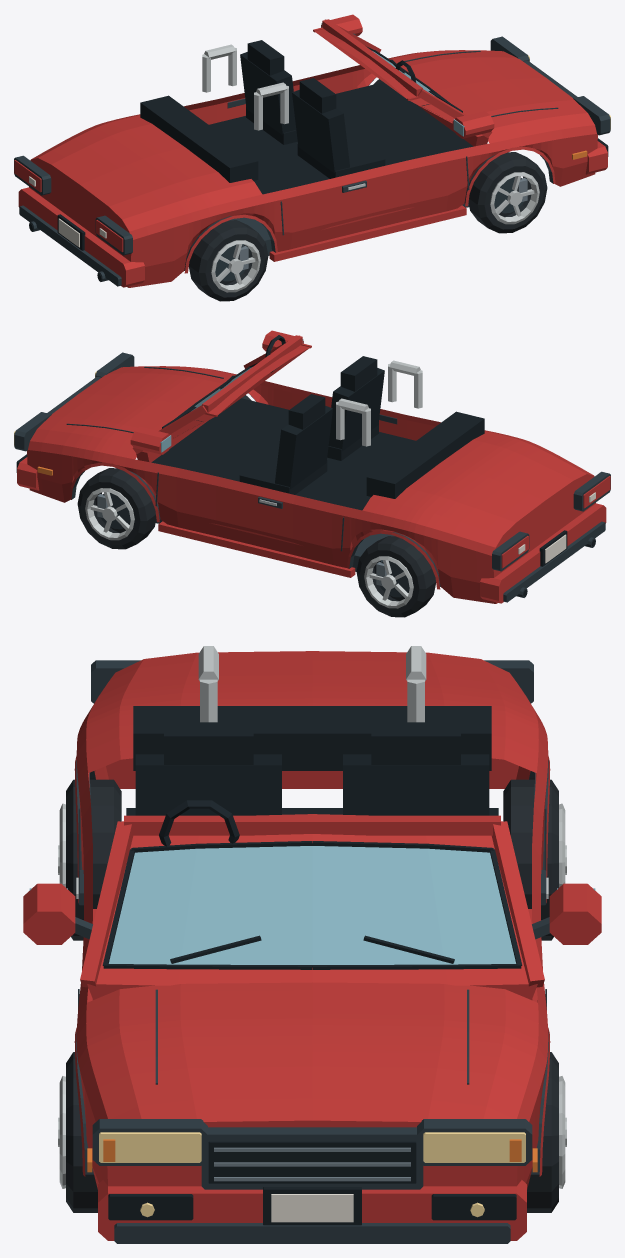
File: b03_two_seat_open_roadster.glb
3 views of the same model, one above another, from view 1: azimuth 30°, elevation 25°; view 2: azimuth 150°, elevation 25°; view 3: azimuth 270°, elevation 25° (orthographic). The views are drawn at different scales.
Visible parts, largest first — view 1: b03_two_seat_open_roadster; view 2: b03_two_seat_open_roadster; view 3: b03_two_seat_open_roadster.
Boxes of the visible parts, box(x1,y1,x2,y2) form: b03_two_seat_open_roadster: box(14, 14, 610, 301); b03_two_seat_open_roadster: box(14, 330, 610, 617); b03_two_seat_open_roadster: box(23, 646, 601, 1243).
Size of the model in its own units: 4.16 by 1.39 by 2.11.
